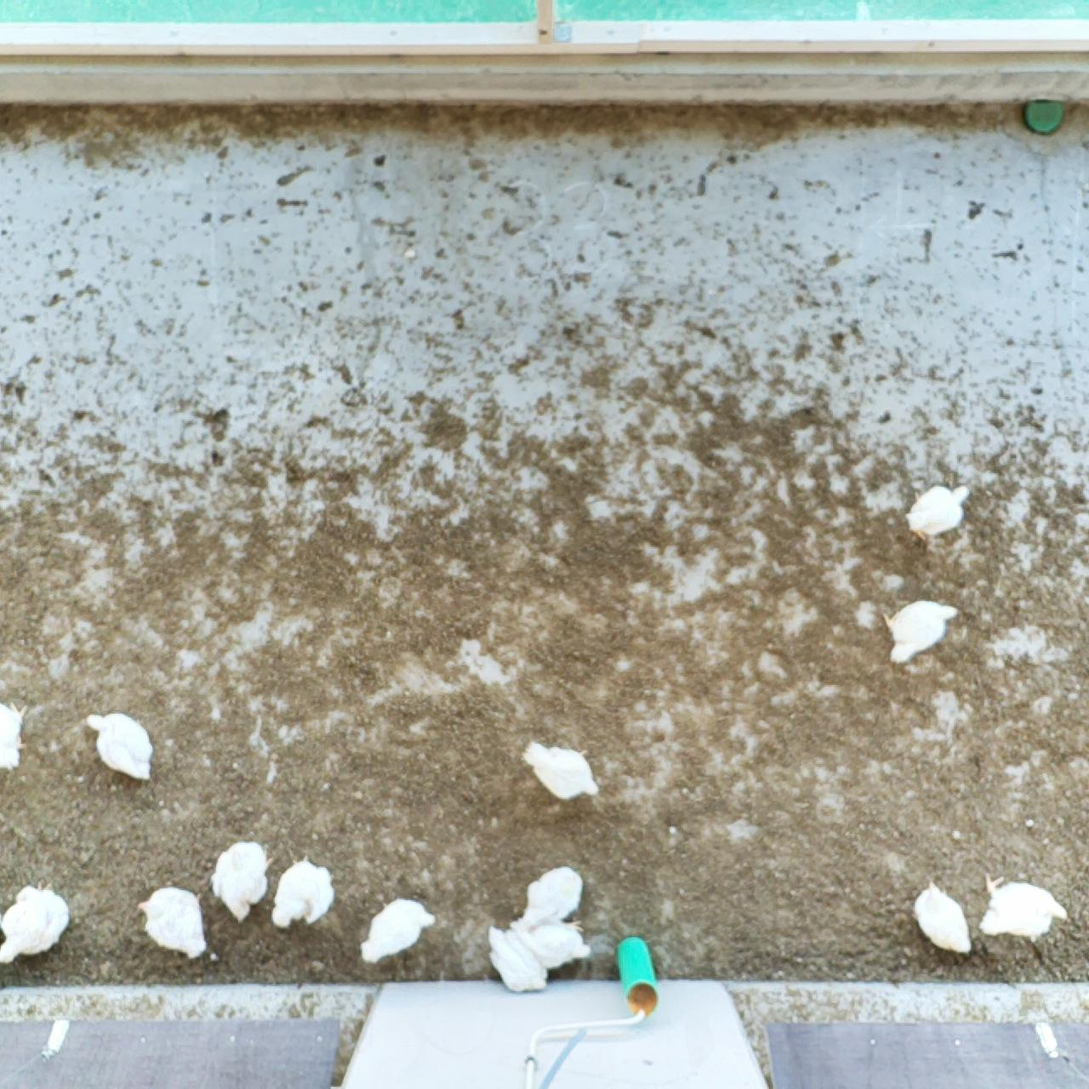chicken: (975, 867, 1071, 946), (0, 878, 76, 971), (132, 882, 215, 965), (205, 837, 275, 928), (81, 704, 158, 785), (361, 892, 438, 969), (268, 852, 339, 935), (907, 876, 975, 961), (879, 594, 957, 667), (519, 738, 600, 805), (479, 924, 549, 997), (519, 866, 587, 937), (902, 480, 973, 543), (510, 918, 593, 971), (0, 700, 32, 775)
